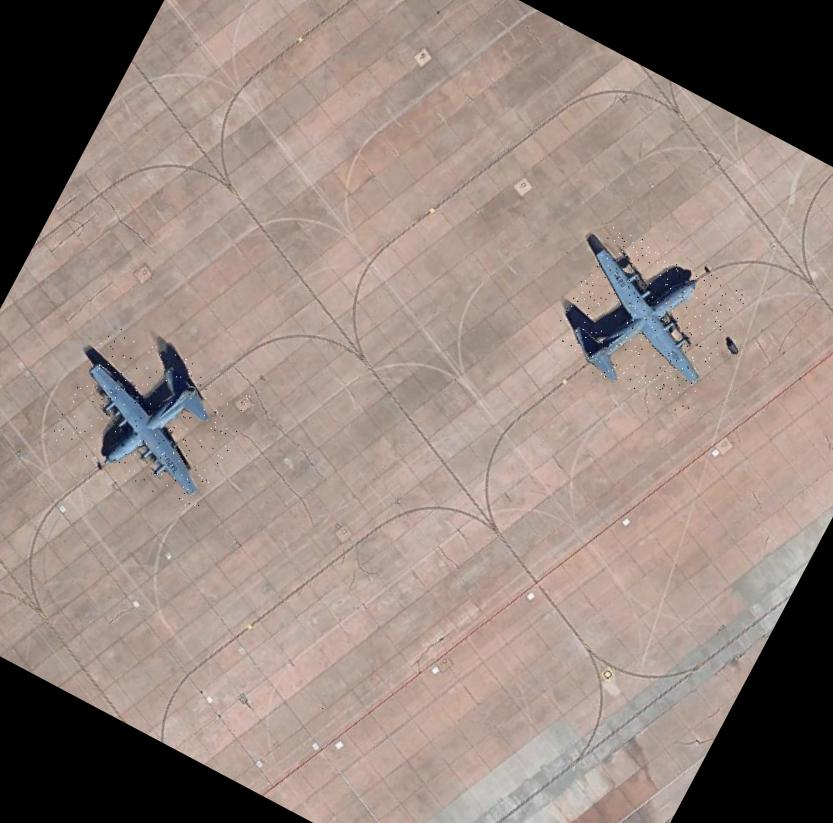A2: (48, 319, 257, 517), (545, 221, 749, 420)
